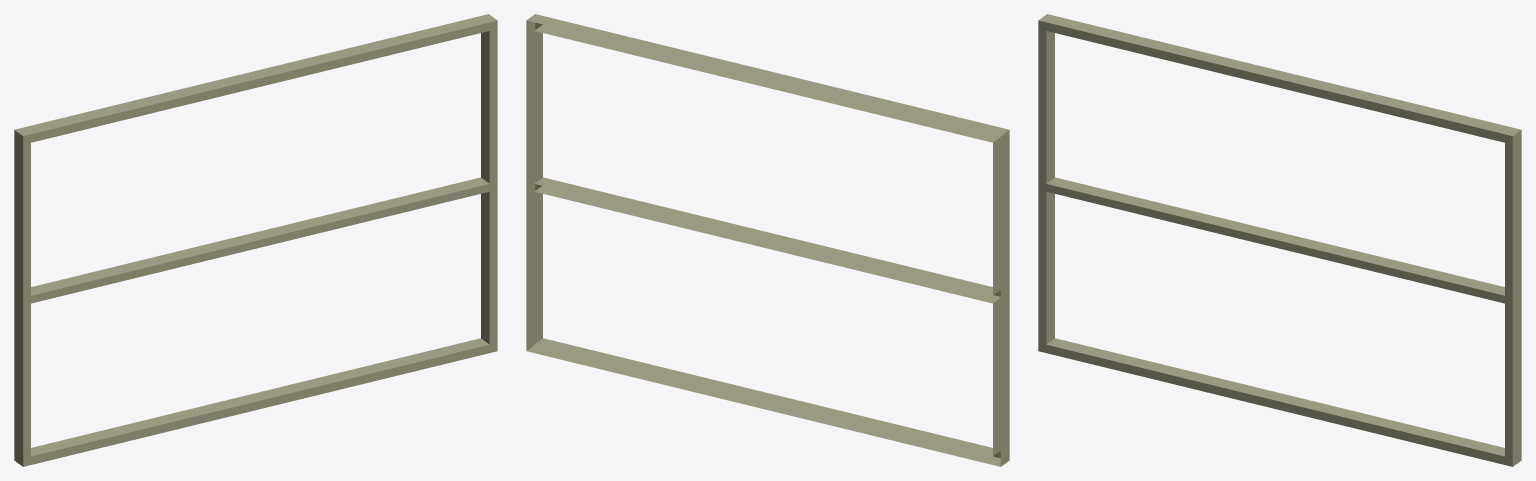
Rendered from Ventanal H.fbx.
3 renders of one model, left to right at view 1: azimuth 30°, elevation 25°; view 2: azimuth 150°, elevation 25°; view 3: azimuth 330°, elevation 25°, orthographic.
Visible parts, largest first — view 1: Ventanal_H; view 2: Ventanal_H; view 3: Ventanal_H.
Boxes of the visible parts, x1,y1,x2,y2 form: Ventanal_H: (14,14,497,466); Ventanal_H: (526,14,1009,466); Ventanal_H: (1038,14,1521,466).
Size of the model in its own units: 2.4 by 1.6 by 0.0774.
